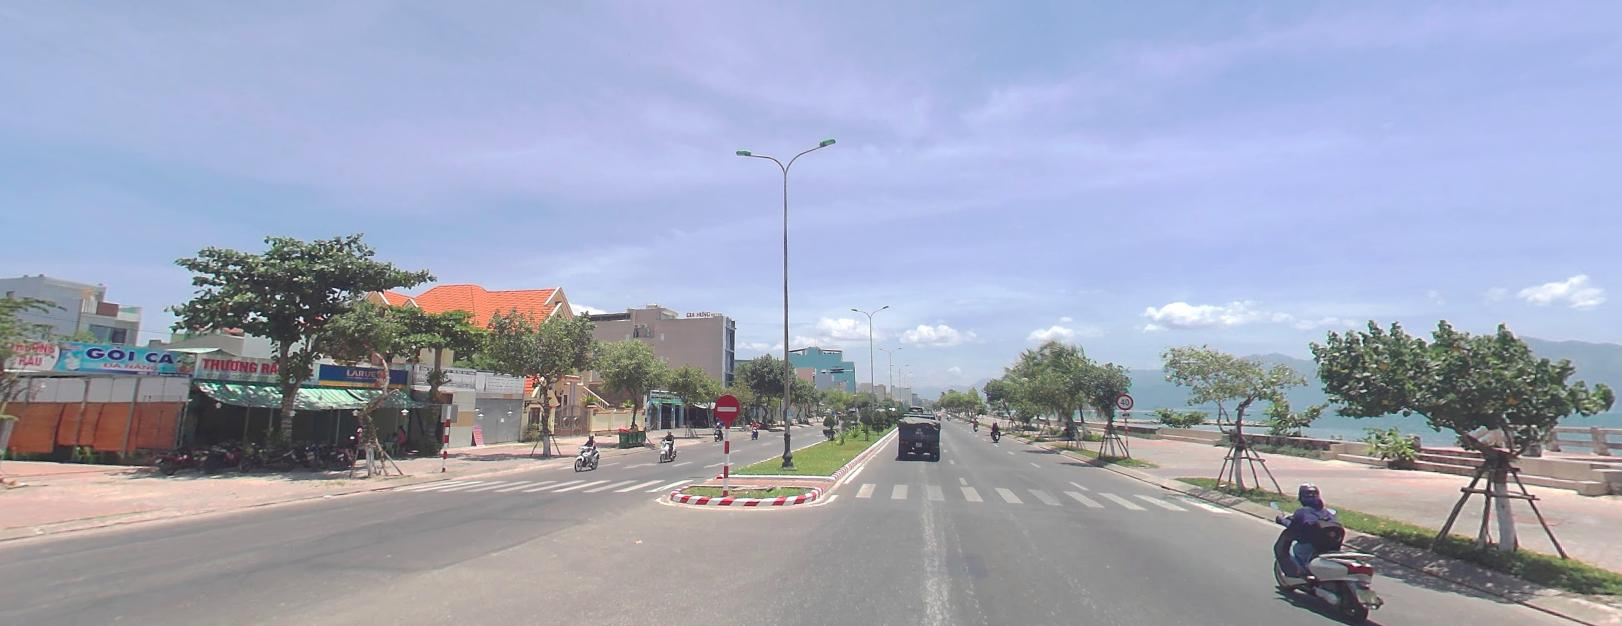Cam nguoc chieu: (713, 393, 739, 421)
Gioi han toc do: (1115, 392, 1134, 408)
